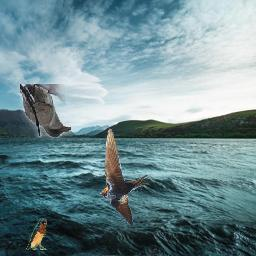Cuckoo: (21, 84, 72, 138)
Swallow: (101, 128, 150, 226), (25, 218, 47, 250)
